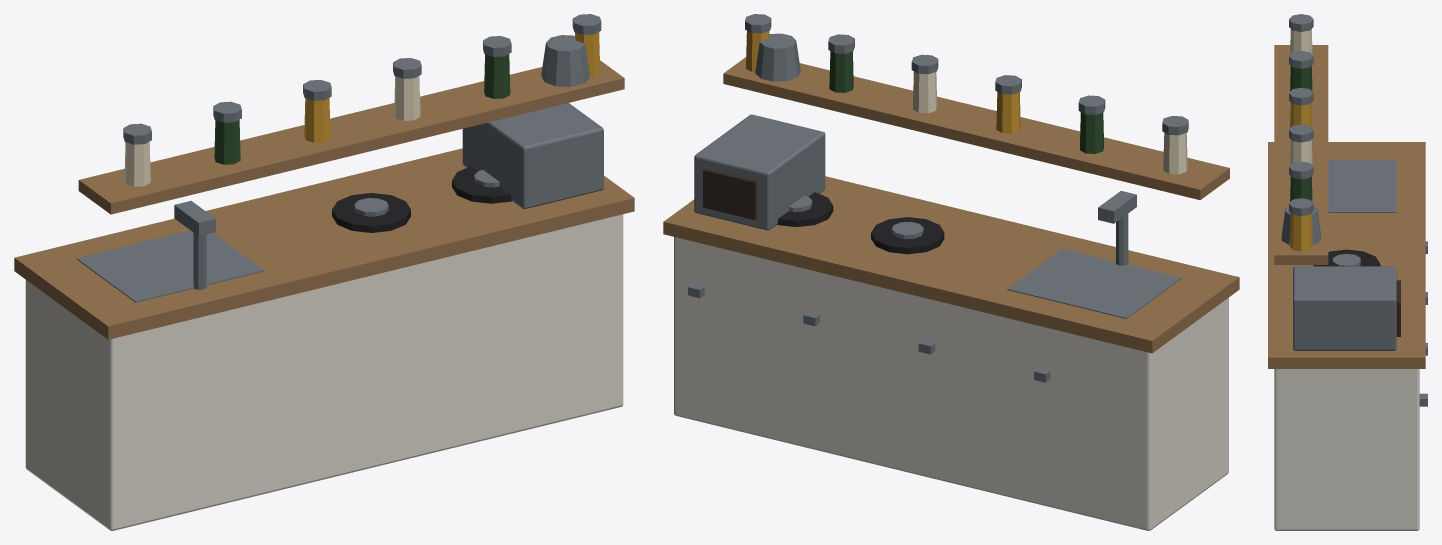
File: kitchen_counter.glb
3 views of the same model, side by side, from view 1: azimuth 30°, elevation 25°; view 2: azimuth 150°, elevation 25°; view 3: azimuth 270°, elevation 25° (orthographic). The views are drawn at different scales.
Parts seen in each view (by area): view 1: kitchen_counter; view 2: kitchen_counter; view 3: kitchen_counter.
Part boxes in pixels (<box>): kitchen_counter: <box>14,14,634,530</box>; kitchen_counter: <box>663,14,1239,530</box>; kitchen_counter: <box>1268,14,1427,530</box>.
Size of what is drawn, in the model's own units: 2.46 by 1.7 by 0.77.
2 materials, 2 textured.
